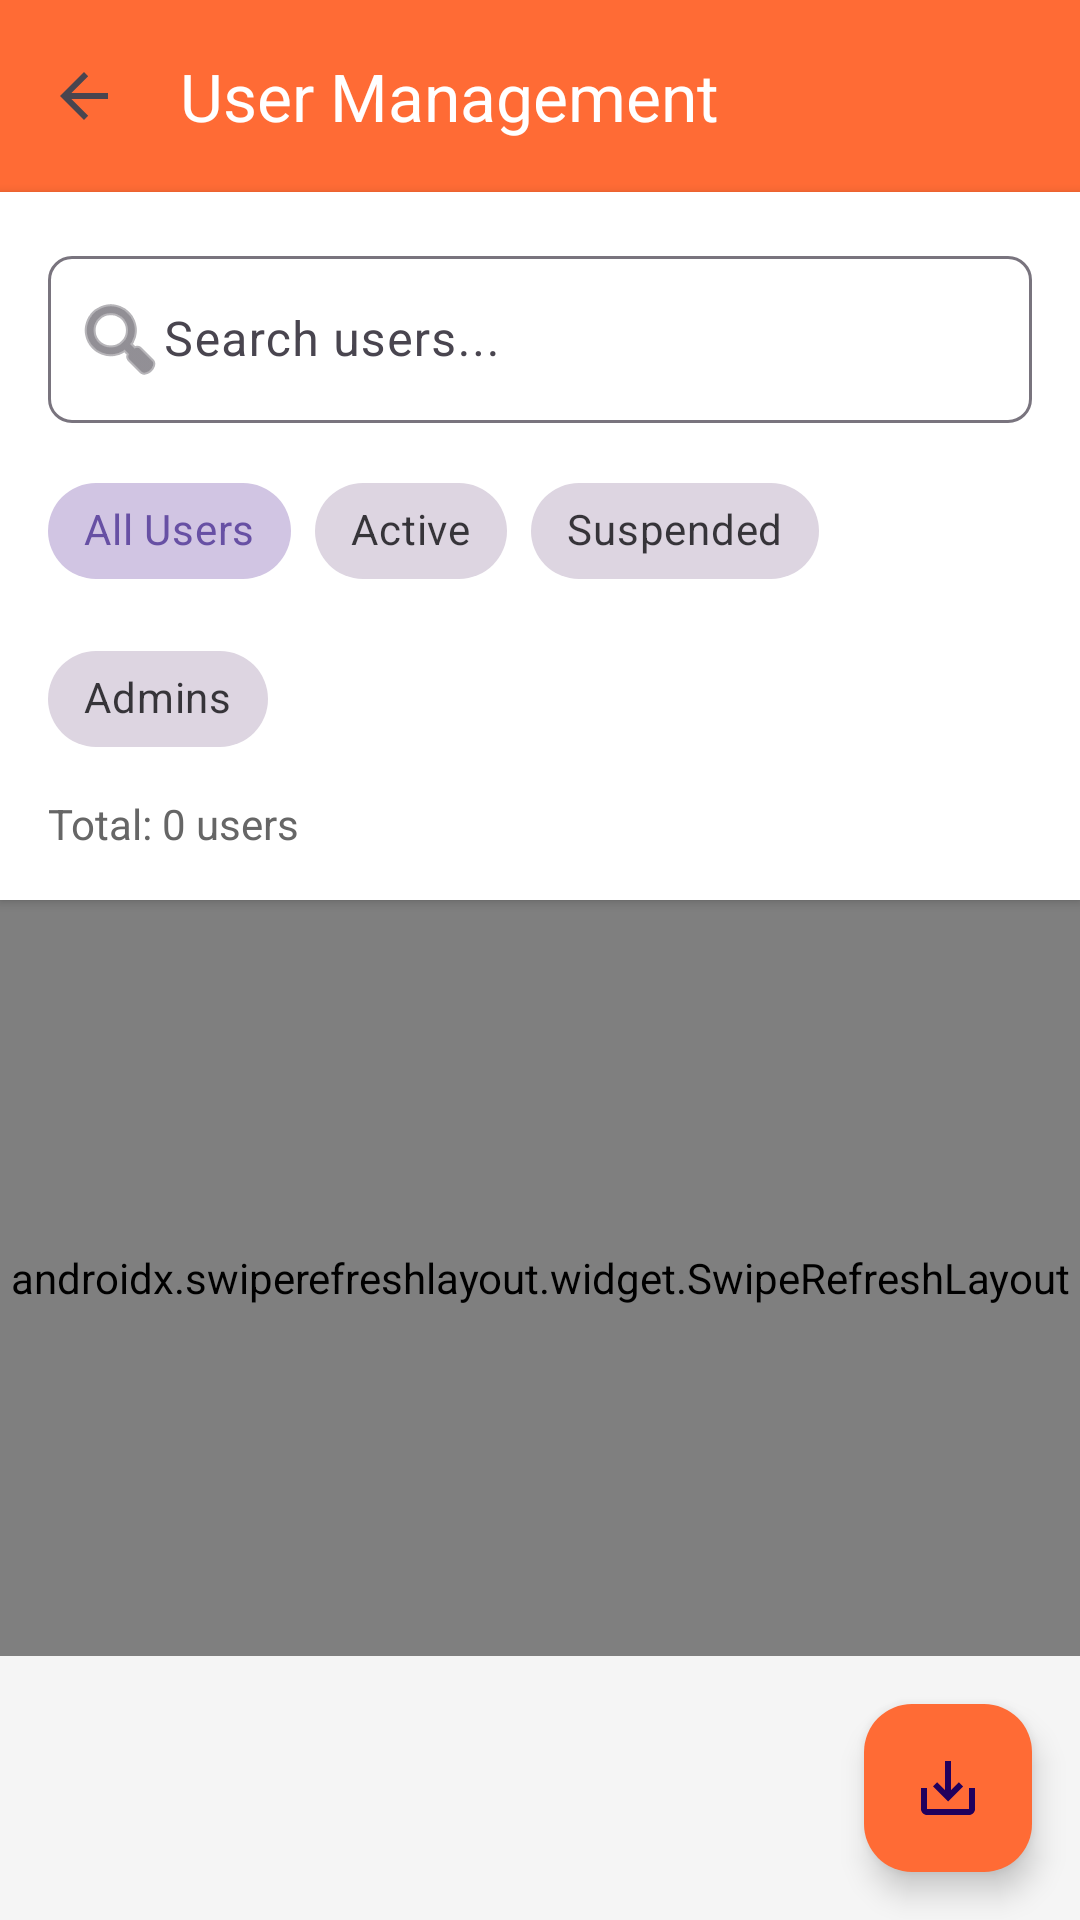

Point at icon controls on the screen. Image size 1080x1920, points as [x,y].
Export Users: [948,1788]
